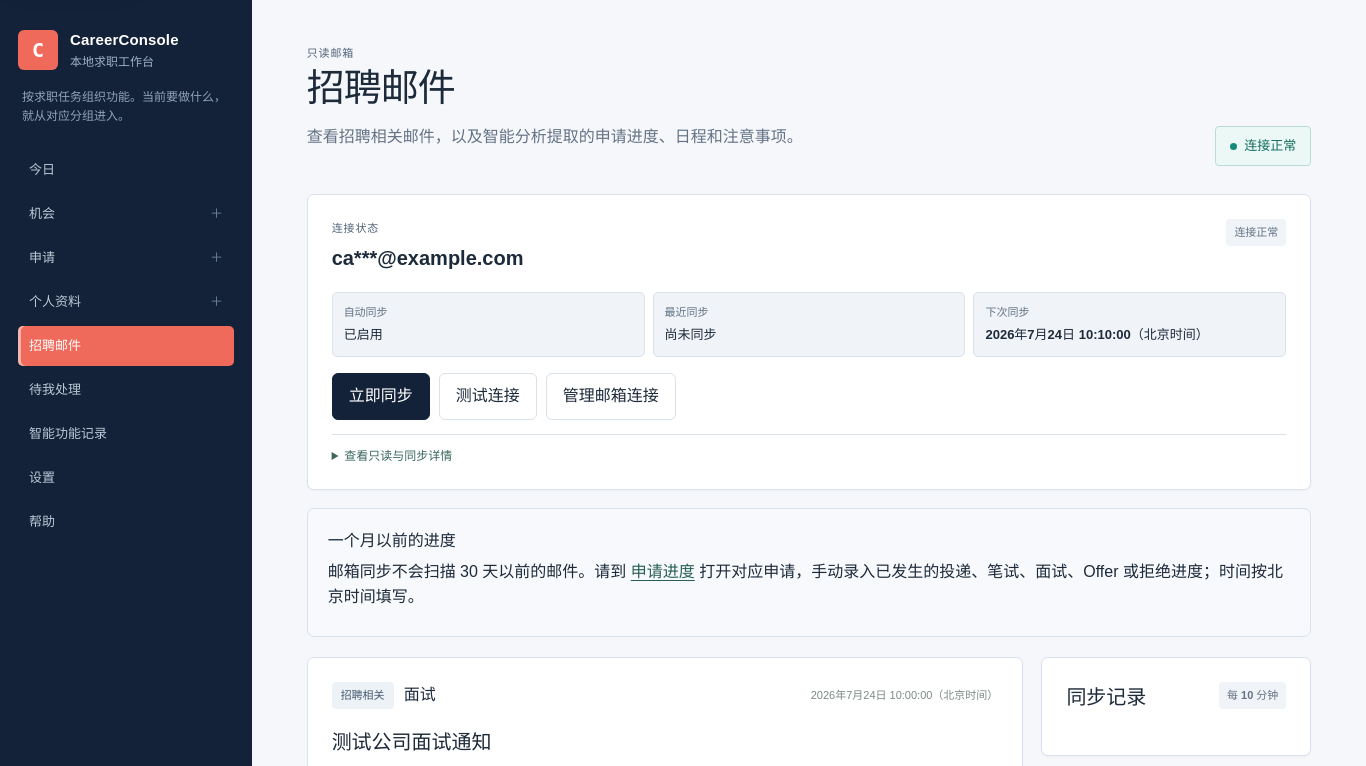
Career app shell › renders read-only IMAP settings, cursor, and mail evidence
expect the heading "招聘邮件" is shown: met, box [307,67,455,109]
expect the heading "ca***@example.com" is shown: met, box [332,243,523,274]
Click the button "测试连接" at (488,396), box [439,373,537,420]
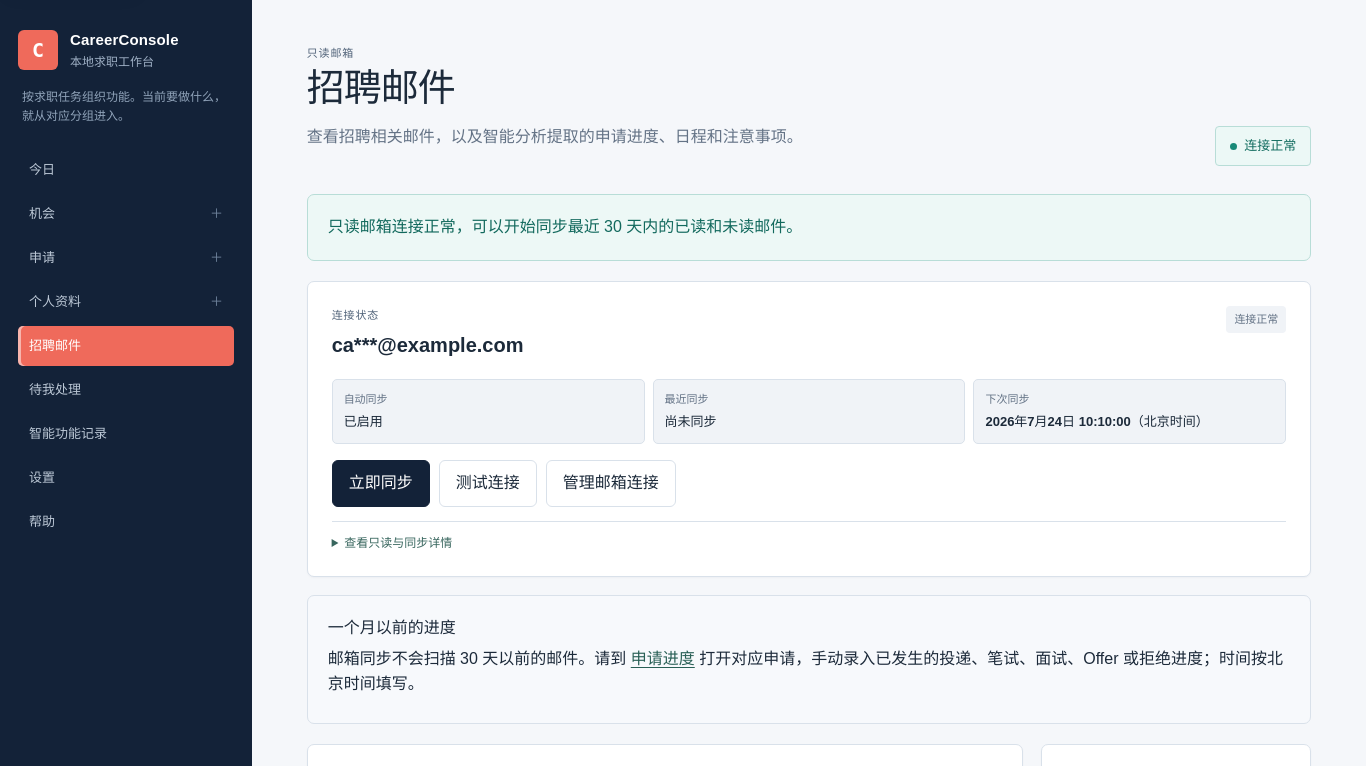
expect the text "只读邮箱连接正常，可以开始同步最近 30 天内的已读和未读邮件。" is shown: met, box [307,194,1311,261]
